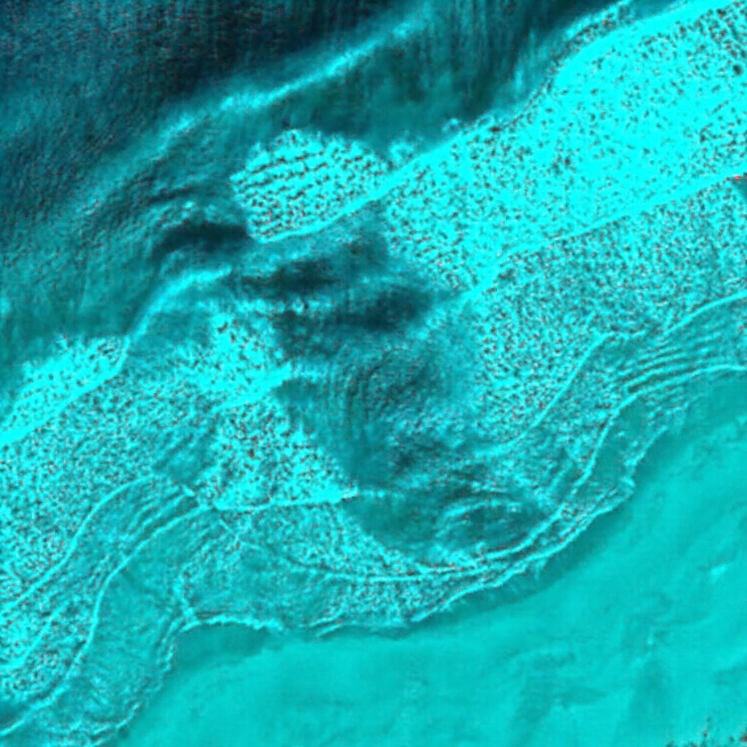rip_current: (130, 113, 548, 580)
